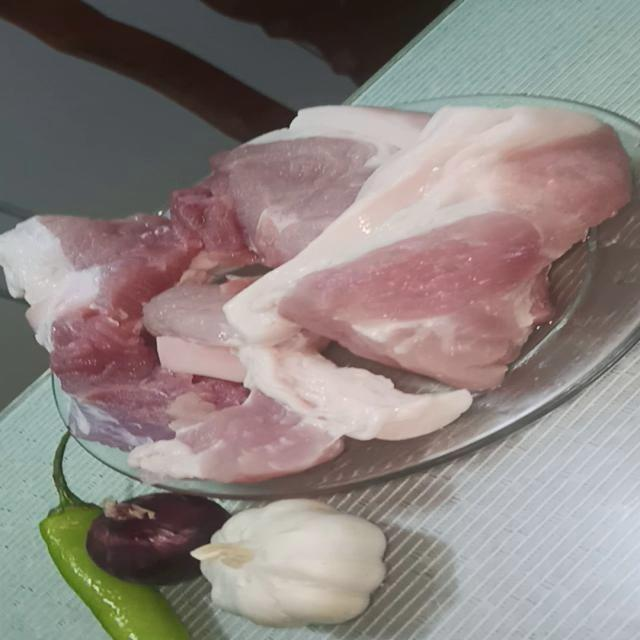chili_pepper: (35, 431, 187, 640)
garlic: (185, 504, 390, 628)
onion: (87, 489, 227, 588)
pork: (341, 97, 590, 387), (44, 288, 323, 425), (0, 182, 196, 367), (225, 94, 424, 249), (175, 367, 376, 482)
